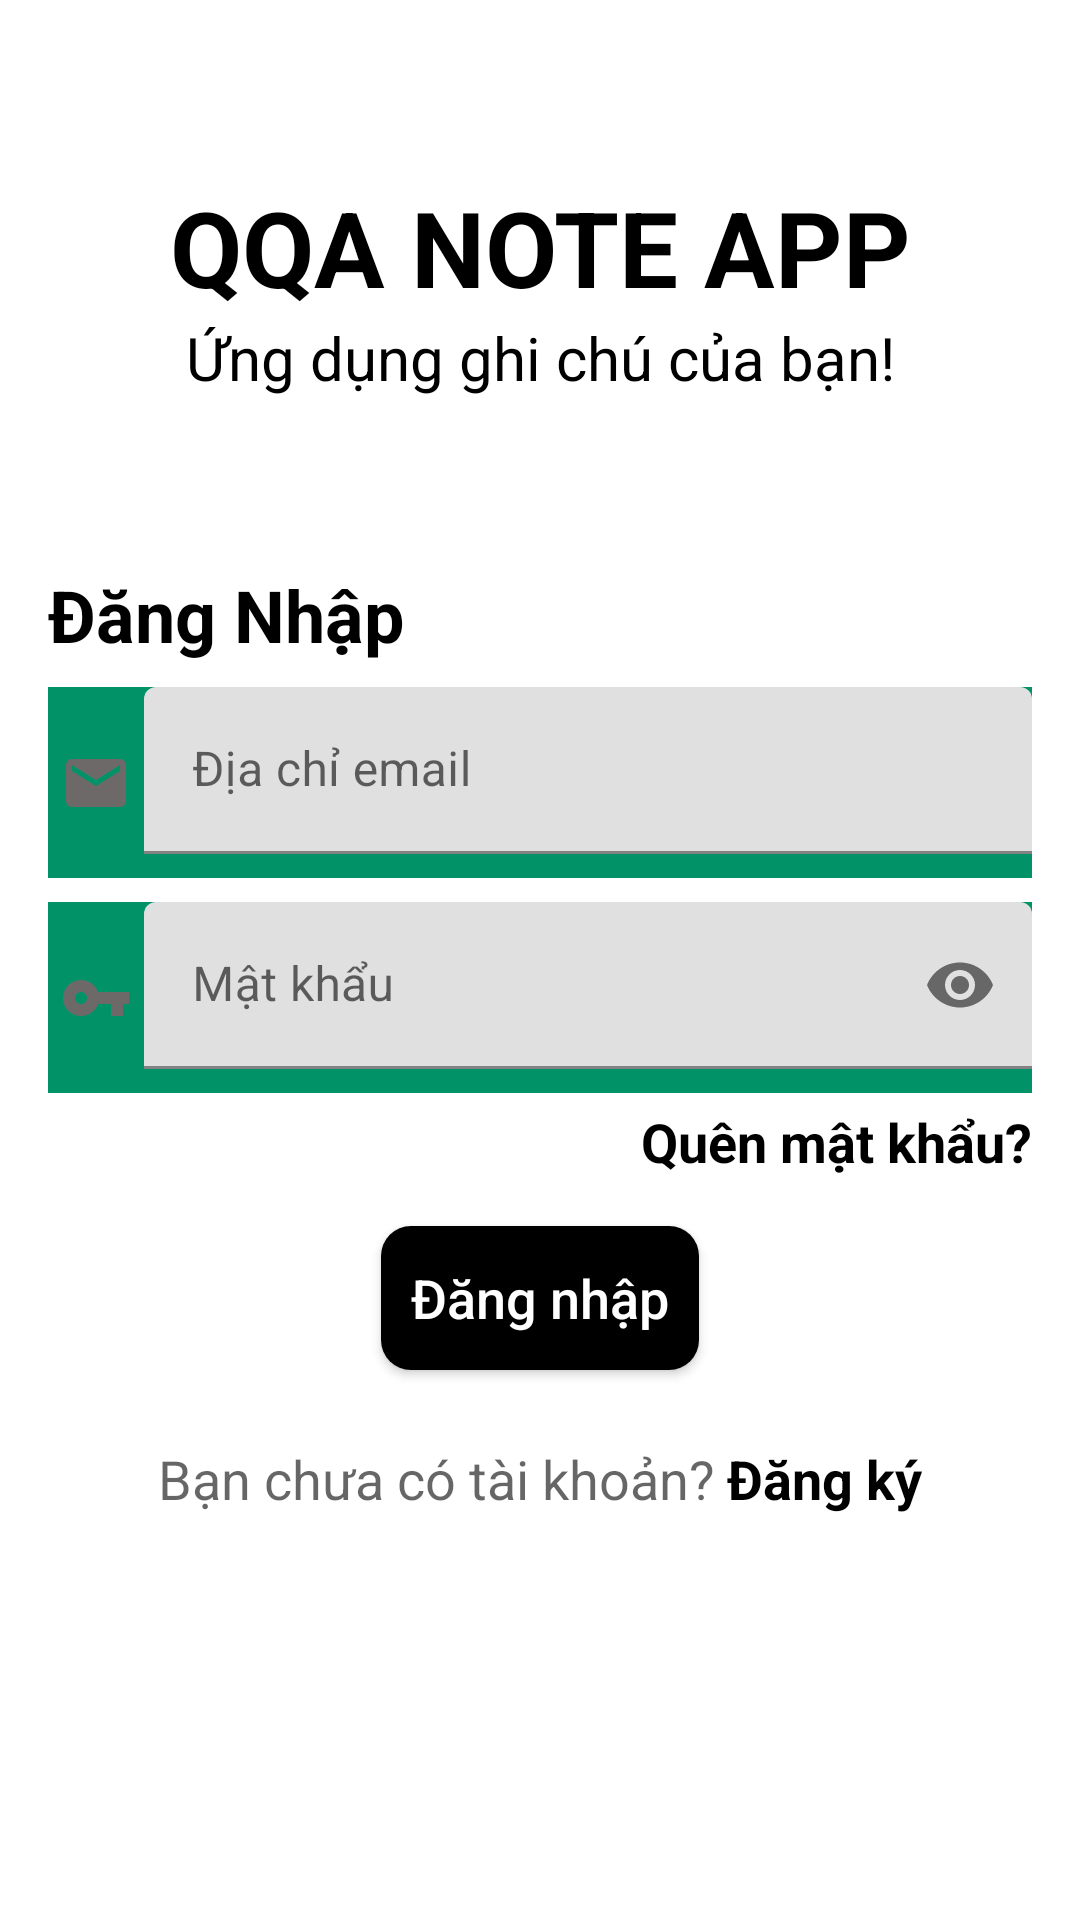

Named icons in this screenshot (1080 x 1920) and their centers, (x=x, y=y):
email signin: (x=96, y=782)
password signin: (x=96, y=997)
